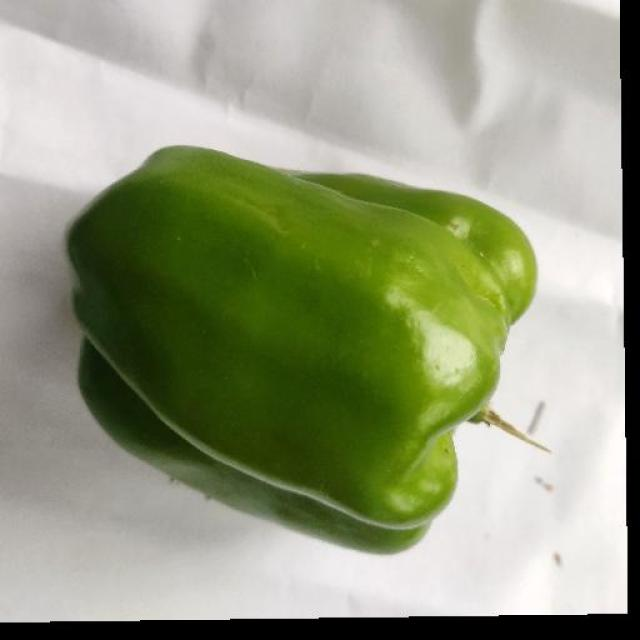Fresh_Capsicum: (75, 146, 484, 495)
